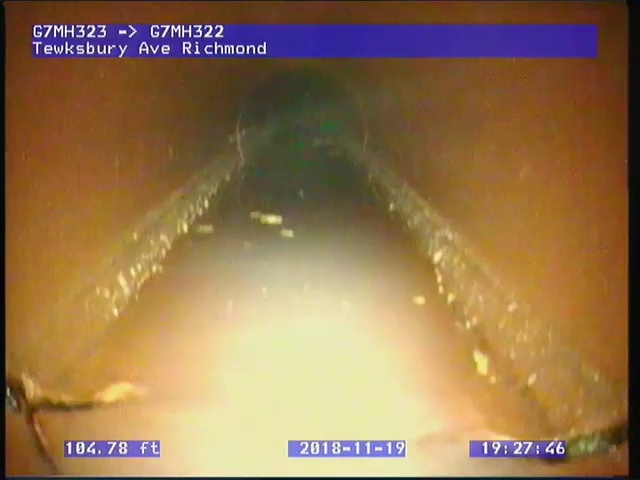crack: (5, 369, 148, 476), (518, 422, 628, 464)
